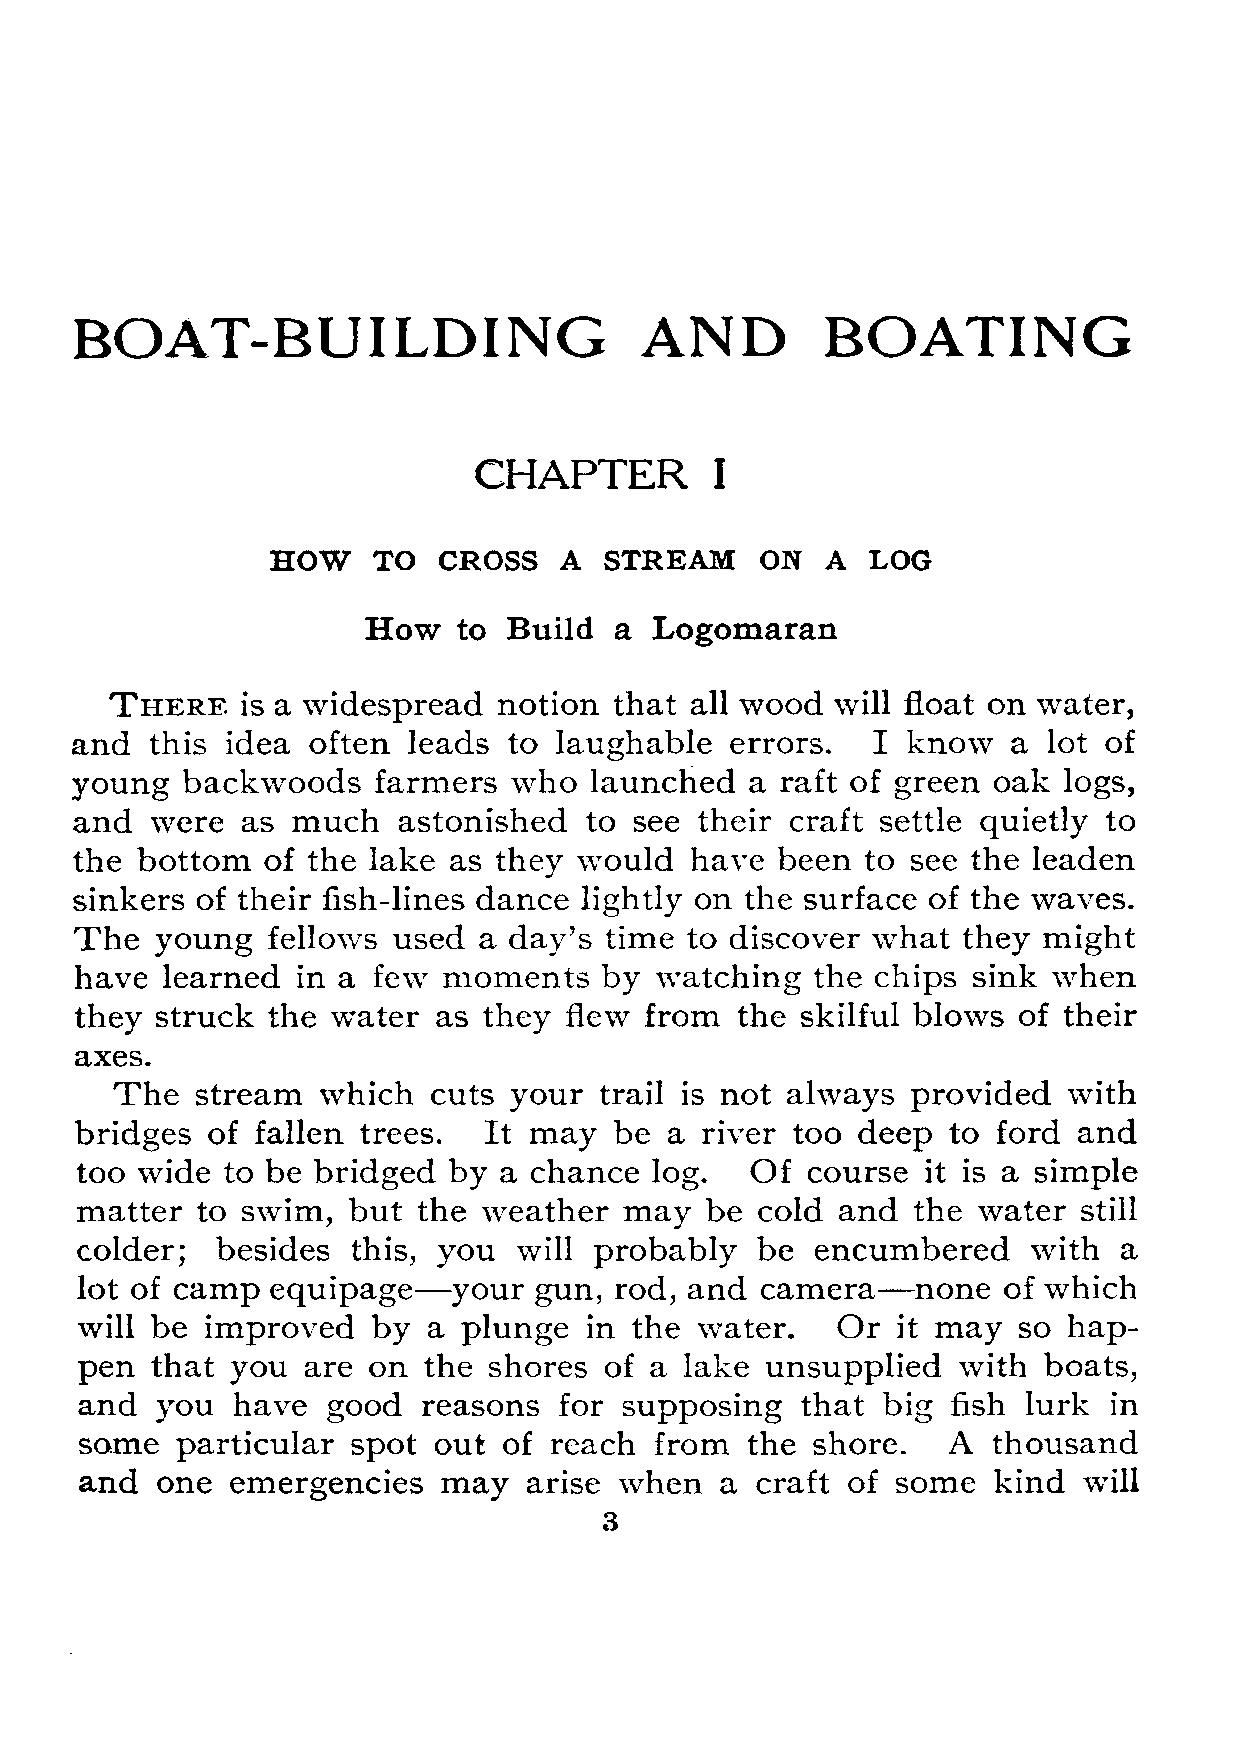chapter: (267, 452, 929, 646), (68, 311, 1134, 364)
content: (67, 686, 1139, 1502)
content_pagenumber: (600, 1508, 620, 1533)
